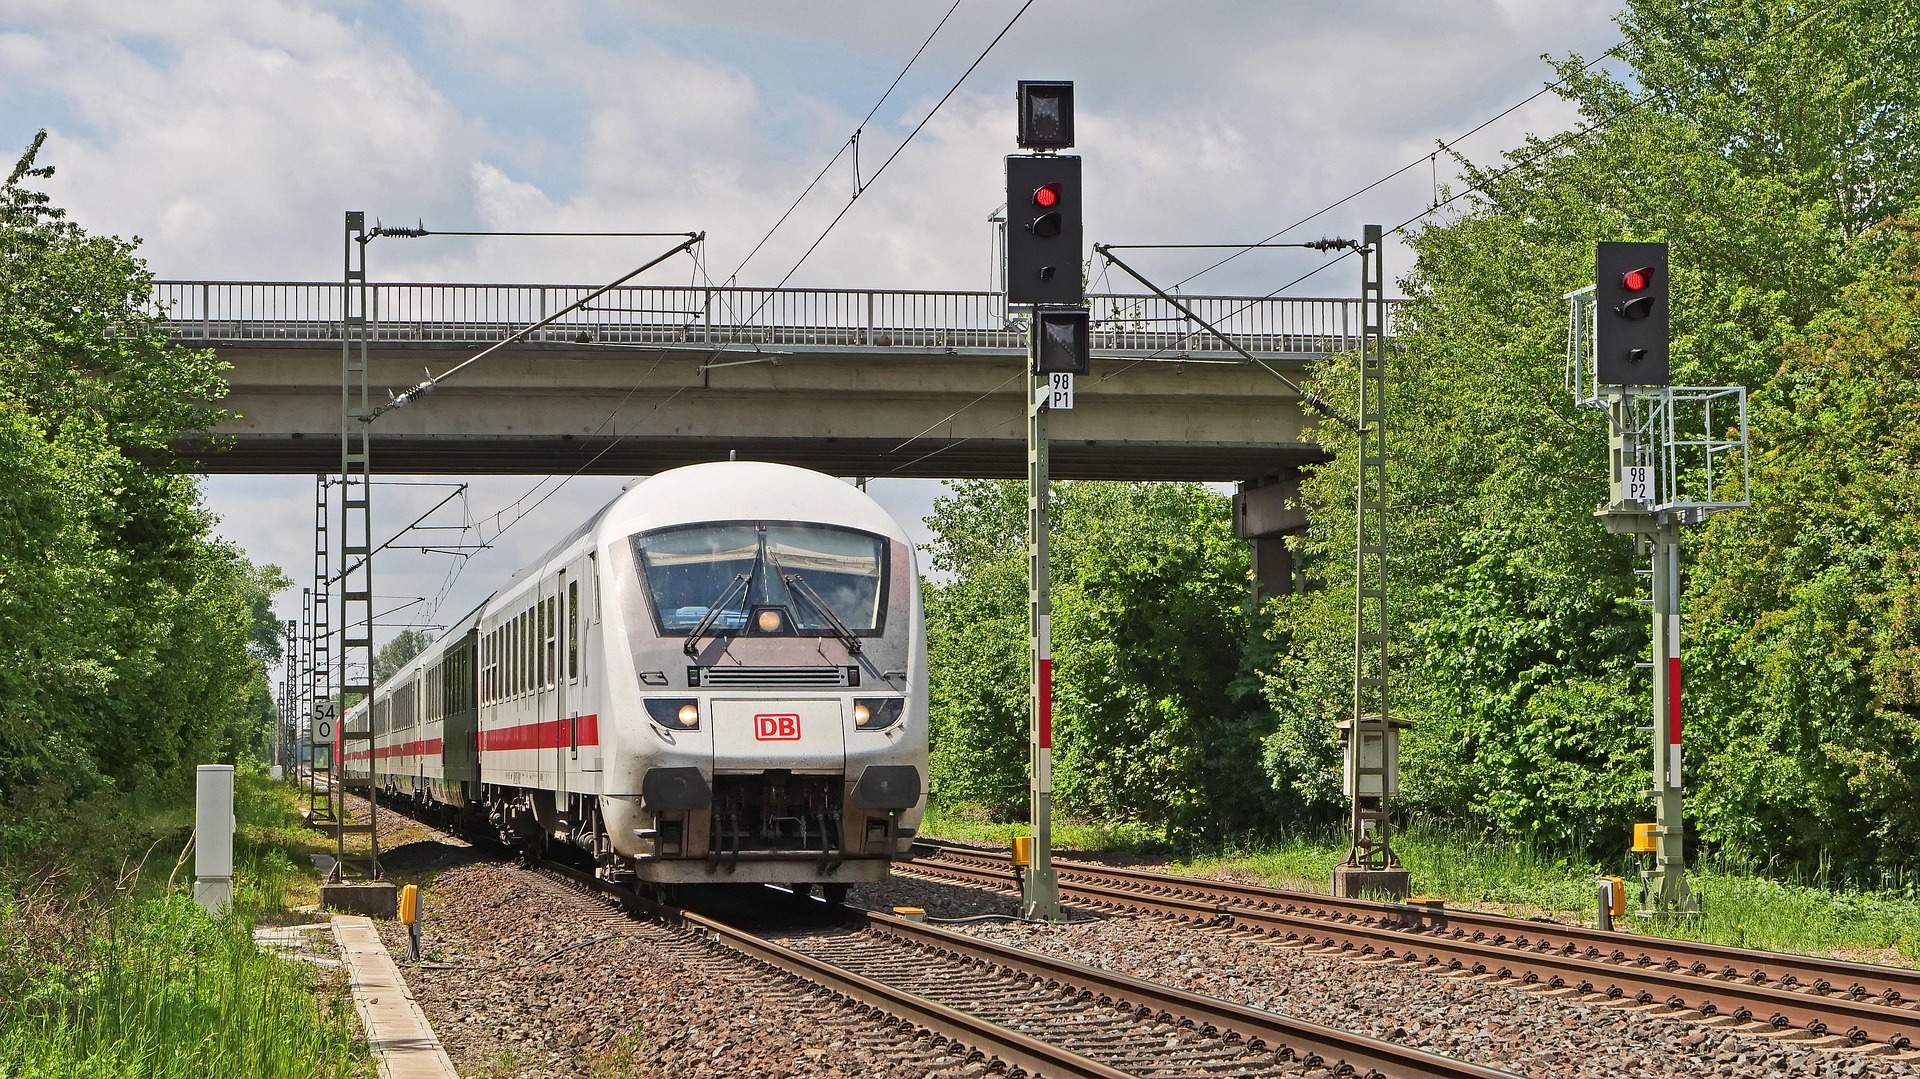train1: (384, 450, 940, 923)
